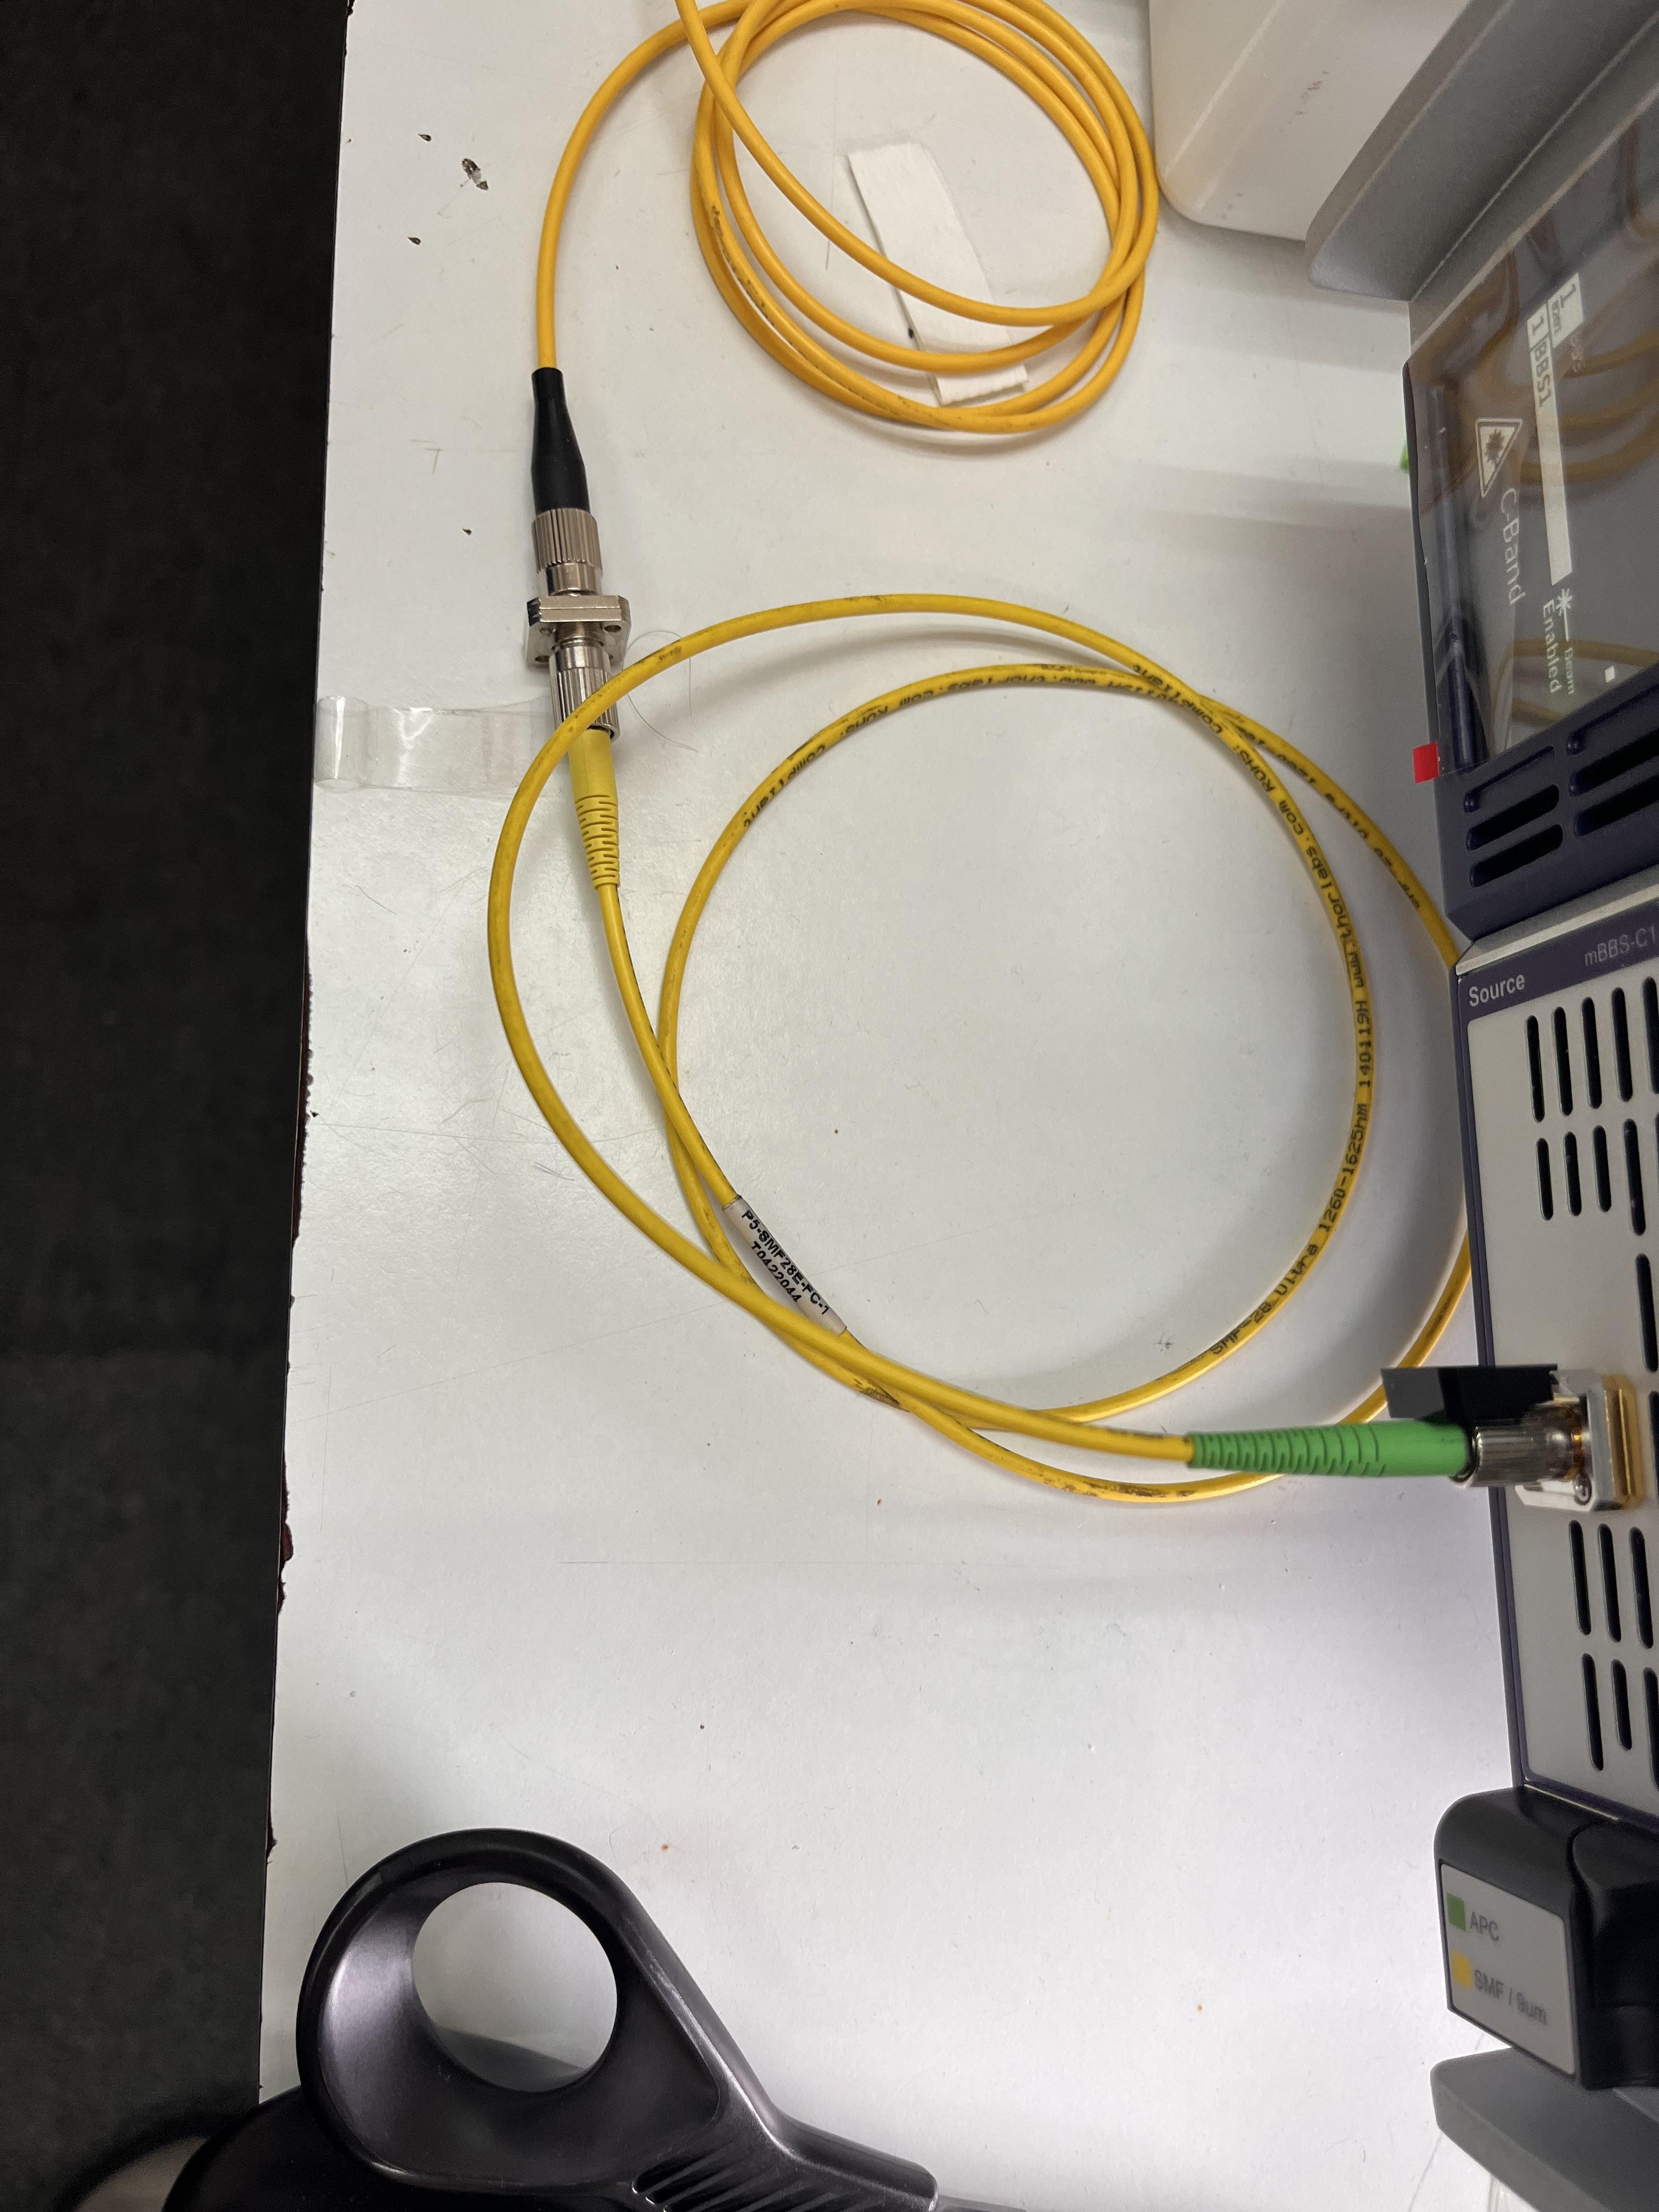fiber_cable: (491, 592, 1561, 1511), (521, 0, 1169, 601)
